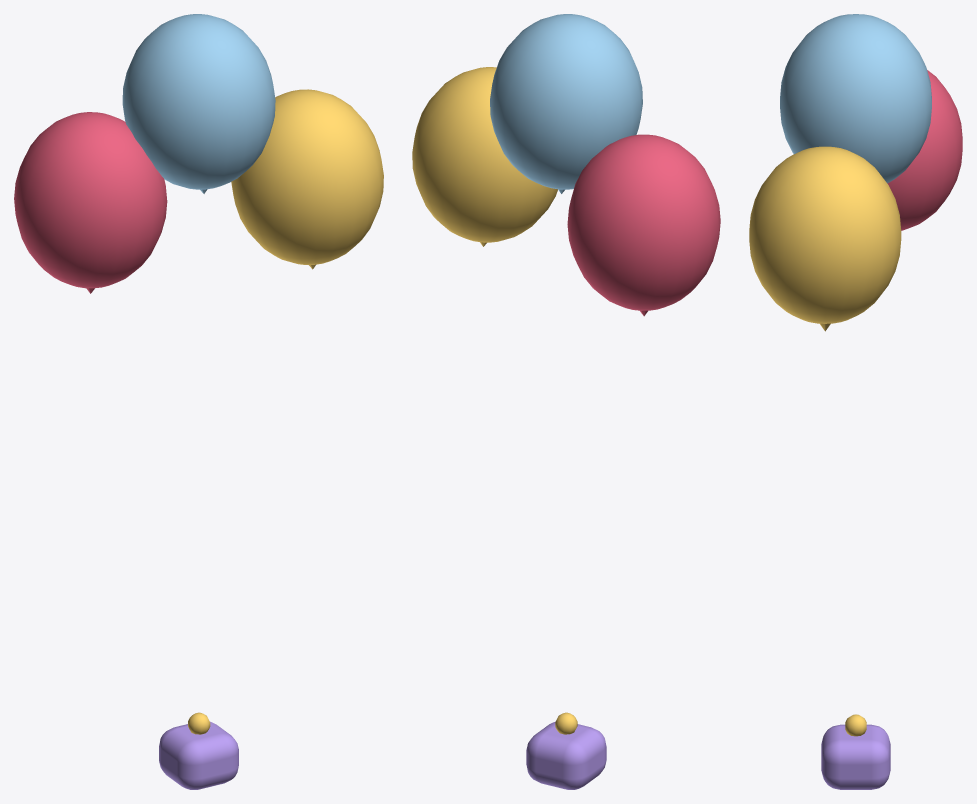
The model's file is kite-balloons.glb.
The picture shows the model from 3 angles, left to right: view 1: azimuth 30°, elevation 25°; view 2: azimuth 150°, elevation 25°; view 3: azimuth 270°, elevation 25°; orthographic projection.
Bounding box in the file's own units: 0.9596 × 2.19 × 0.5559.
